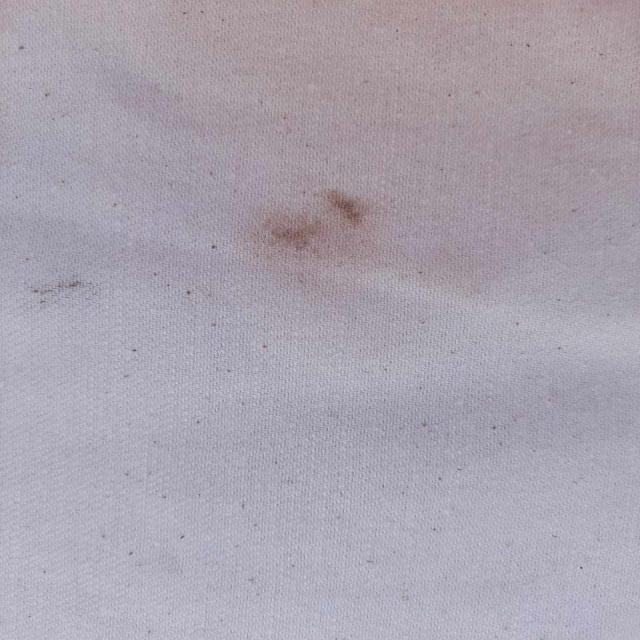taaaches: (256, 175, 371, 272), (29, 273, 100, 312)
